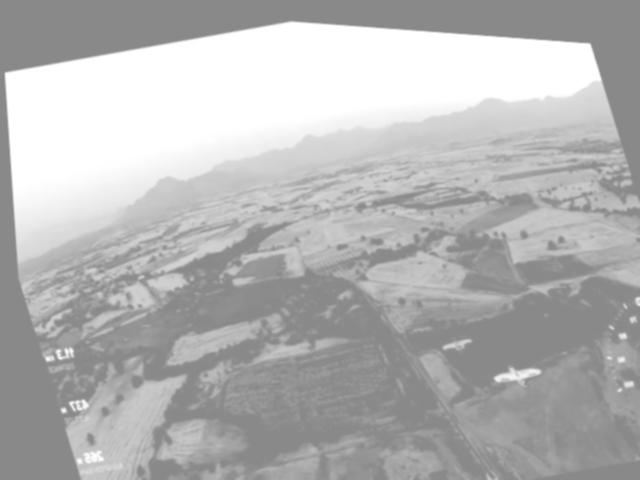hedef: (477, 343, 545, 395)
